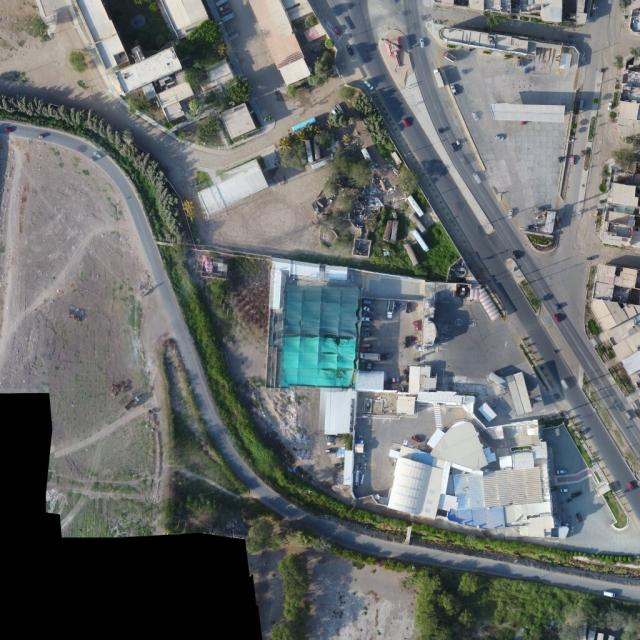building: (281, 284, 359, 389), (431, 415, 502, 485), (194, 160, 268, 216), (453, 468, 544, 511), (114, 45, 183, 95), (385, 458, 435, 518), (438, 25, 531, 54), (482, 467, 544, 508), (157, 0, 211, 40), (155, 80, 199, 122), (318, 388, 356, 436), (193, 57, 237, 96), (486, 420, 542, 449), (492, 103, 566, 122), (450, 508, 506, 532), (220, 102, 256, 139), (519, 516, 557, 541), (409, 366, 438, 393), (417, 390, 464, 406), (269, 261, 283, 310), (355, 372, 384, 391), (290, 261, 321, 277), (303, 22, 327, 42), (620, 100, 640, 124), (506, 506, 528, 527), (423, 320, 438, 347), (513, 452, 535, 470), (527, 503, 553, 518), (344, 451, 354, 488), (398, 396, 416, 415), (532, 442, 549, 461), (325, 266, 347, 280), (560, 52, 573, 70), (577, 12, 589, 24), (632, 57, 640, 63)
dryland: (0, 130, 169, 540), (395, 71, 497, 240), (409, 294, 547, 402), (517, 469, 640, 558), (208, 167, 329, 255), (309, 555, 416, 640), (356, 393, 437, 497), (540, 419, 590, 481), (533, 575, 555, 585)
greenland: (150, 239, 285, 491), (162, 340, 268, 539), (262, 469, 410, 547), (409, 523, 583, 575), (361, 213, 464, 285), (164, 14, 242, 91), (406, 221, 467, 287), (271, 554, 314, 640), (350, 90, 402, 160), (328, 143, 380, 191), (240, 516, 283, 558), (306, 45, 342, 91), (327, 544, 378, 575), (218, 74, 254, 108), (293, 530, 334, 557), (195, 112, 225, 145), (339, 132, 363, 152), (304, 121, 323, 138), (327, 113, 349, 127), (278, 155, 294, 172), (278, 136, 293, 154)
metalled_road: (0, 122, 43, 141)
unmetalled_road: (577, 59, 629, 249)
wetland: (328, 544, 378, 574)
